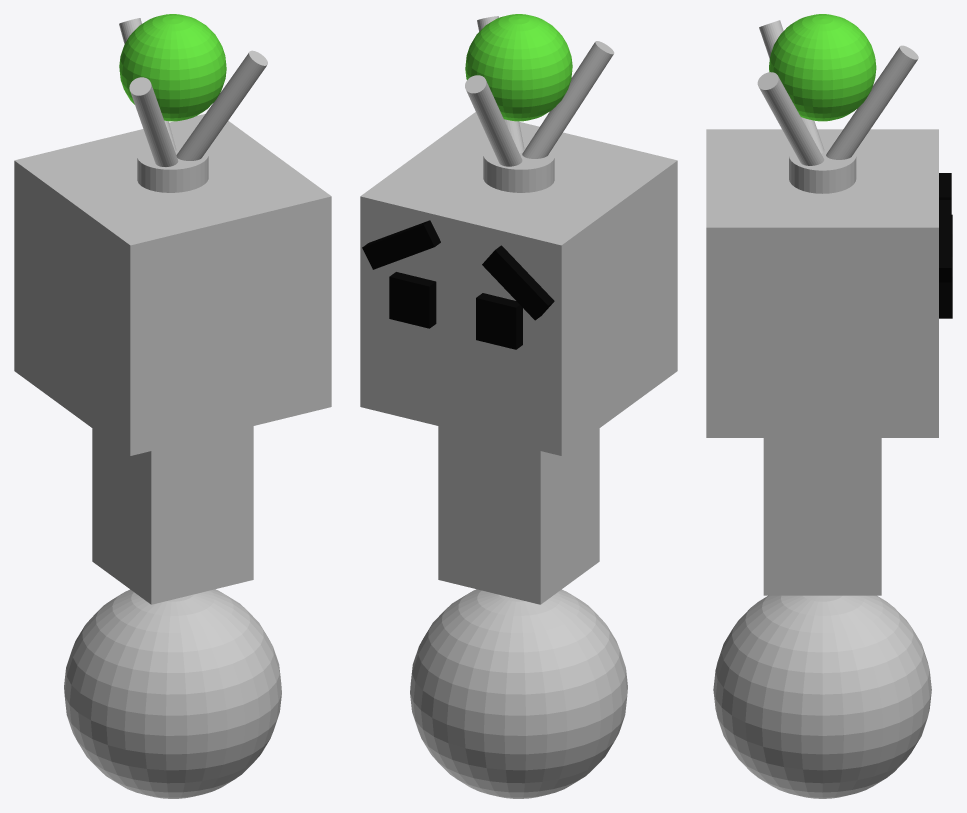
File: robot.fbx
The picture shows the model from 3 angles, left to right: view 1: azimuth 30°, elevation 25°; view 2: azimuth 150°, elevation 25°; view 3: azimuth 270°, elevation 25°; orthographic projection.
Parts seen in each view (by area): view 1: Head, Sphere, Body, Sphere.001, Cylinder.002, Cylinder.001, Cylinder.003; view 2: Head, Sphere, Body, Sphere.001, Cylinder.003, Cylinder.001, Eye1, Eye2, Brow1, Cylinder.004, Brow2; view 3: Head, Sphere, Body, Sphere.001, Cylinder.004, Cylinder.002, Cylinder.001, Brow2, Cylinder.003, Eye1.
Part boxes in pixels (box(x1,y1,x2,y2)): Head: box(14, 114, 331, 455); Sphere: box(64, 589, 281, 798); Body: box(92, 426, 253, 604); Sphere.001: box(119, 14, 226, 121); Cylinder.002: box(176, 50, 267, 160); Cylinder.001: box(137, 140, 208, 192); Cylinder.003: box(129, 77, 178, 166); Head: box(360, 112, 677, 455); Sphere: box(410, 589, 627, 798); Body: box(438, 426, 599, 604); Sphere.001: box(465, 14, 572, 121); Cylinder.003: box(522, 41, 614, 158); Cylinder.001: box(483, 141, 554, 192); Eye1: box(389, 272, 436, 328); Eye2: box(476, 293, 522, 349); Brow1: box(482, 245, 554, 320); Cylinder.004: box(465, 75, 522, 166); Brow2: box(362, 220, 440, 269); Head: box(706, 129, 938, 437); Sphere: box(713, 595, 931, 798); Body: box(763, 438, 881, 595); Sphere.001: box(769, 14, 876, 121); Cylinder.004: box(826, 45, 918, 159); Cylinder.002: box(757, 72, 824, 165); Cylinder.001: box(789, 139, 856, 193); Brow2: box(939, 200, 951, 282); Cylinder.003: box(759, 20, 824, 153); Eye1: box(939, 257, 952, 318).
Size of what is drawn, in the model's own units: 156 by 570 by 165.
